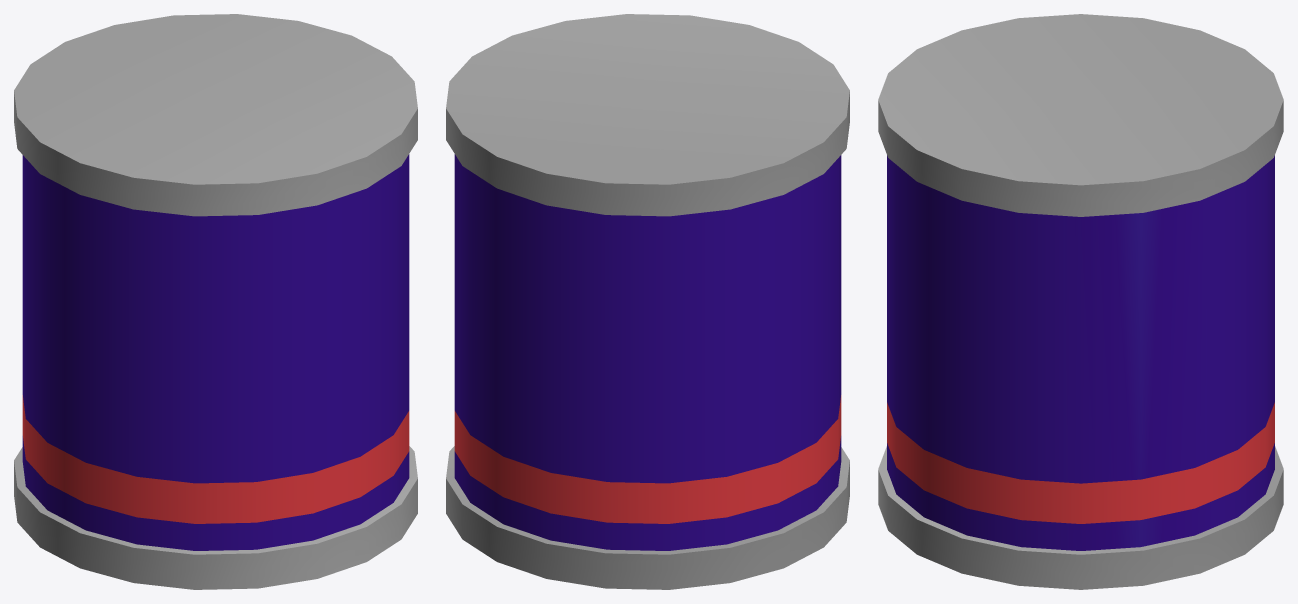
File: Ürün31.fbx
The picture shows the model from 3 angles, left to right: view 1: azimuth 30°, elevation 25°; view 2: azimuth 150°, elevation 25°; view 3: azimuth 270°, elevation 25°; orthographic projection.
Visible parts, largest first — view 1: pCylinder18; view 2: pCylinder18; view 3: pCylinder18.
Boxes of the visible parts, box(x1,y1,x2,y2) form: pCylinder18: box(14, 14, 417, 589); pCylinder18: box(446, 14, 849, 589); pCylinder18: box(878, 14, 1283, 589).
Size of the model in its own units: 9.51 by 10.47 by 9.51.
